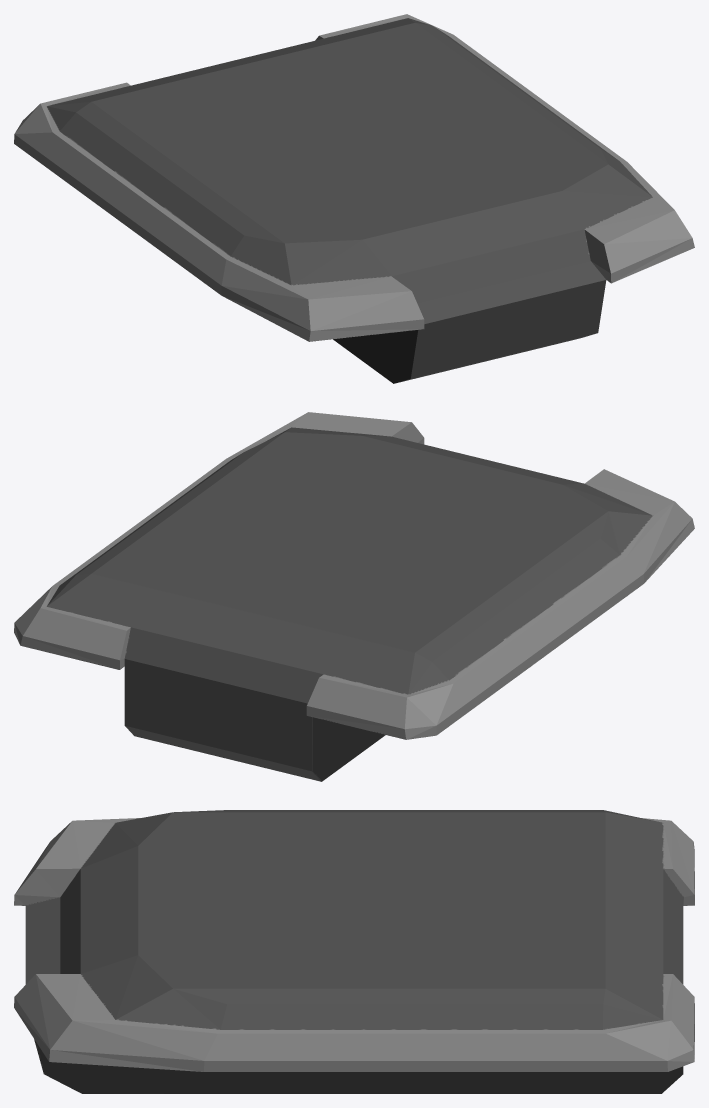
Rendered from chasis.obj.
3 views of the same model, one above another, from view 1: azimuth 30°, elevation 25°; view 2: azimuth 150°, elevation 25°; view 3: azimuth 270°, elevation 25° (orthographic). The views are drawn at different scales.
Visible parts, largest first — view 1: Cuerpo_Cube.008; view 2: Cuerpo_Cube.008; view 3: Cuerpo_Cube.008.
Boxes of the visible parts, x1,y1,x2,y2 form: Cuerpo_Cube.008: (14,14,694,383); Cuerpo_Cube.008: (14,412,694,781); Cuerpo_Cube.008: (14,810,694,1093).
Size of the model in its own units: 8.75 by 2.52 by 10.93.
1 material, 1 textured.
